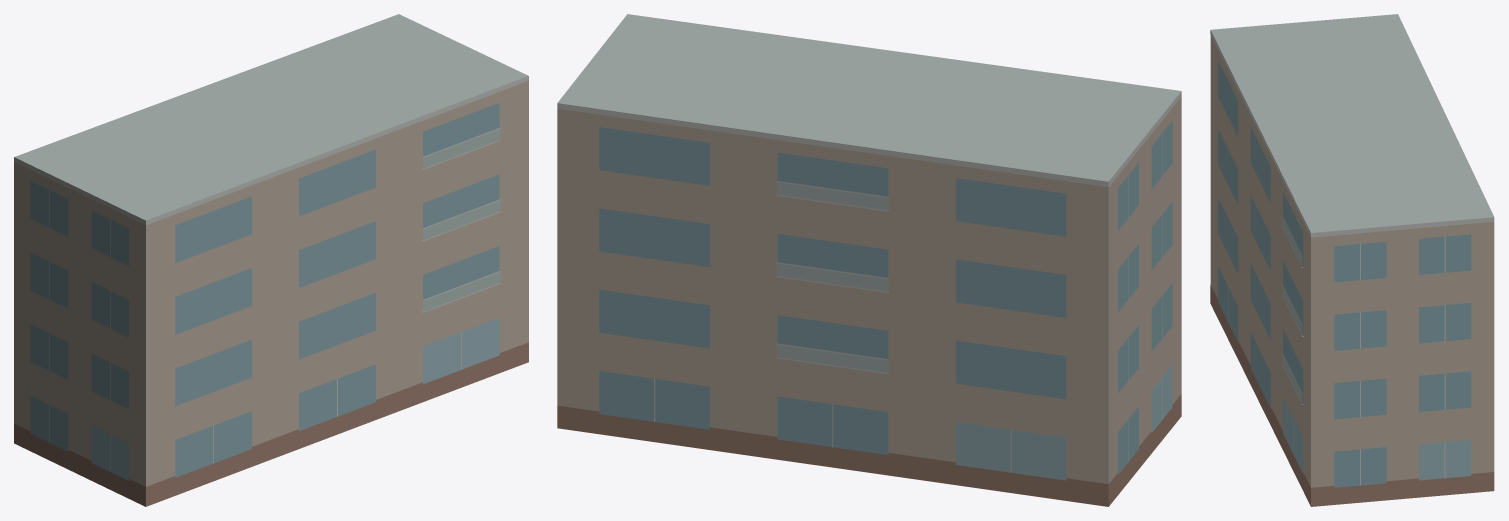
Rendered from survey-upis-32922714.glb.
The picture shows the model from 3 angles, left to right: view 1: azimuth 30°, elevation 25°; view 2: azimuth 150°, elevation 25°; view 3: azimuth 270°, elevation 25°; orthographic projection. The views are drawn at different scales.
Visible parts, largest first — view 1: survey-upis-32922714.tmp; view 2: survey-upis-32922714.tmp; view 3: survey-upis-32922714.tmp.
Part boxes in pixels (x1,y1,x2,y2): survey-upis-32922714.tmp: [14, 14, 528, 506]; survey-upis-32922714.tmp: [557, 14, 1181, 506]; survey-upis-32922714.tmp: [1210, 14, 1494, 506].
Bounding box in the file's own units: 24.88 × 14.5 × 13.63.
